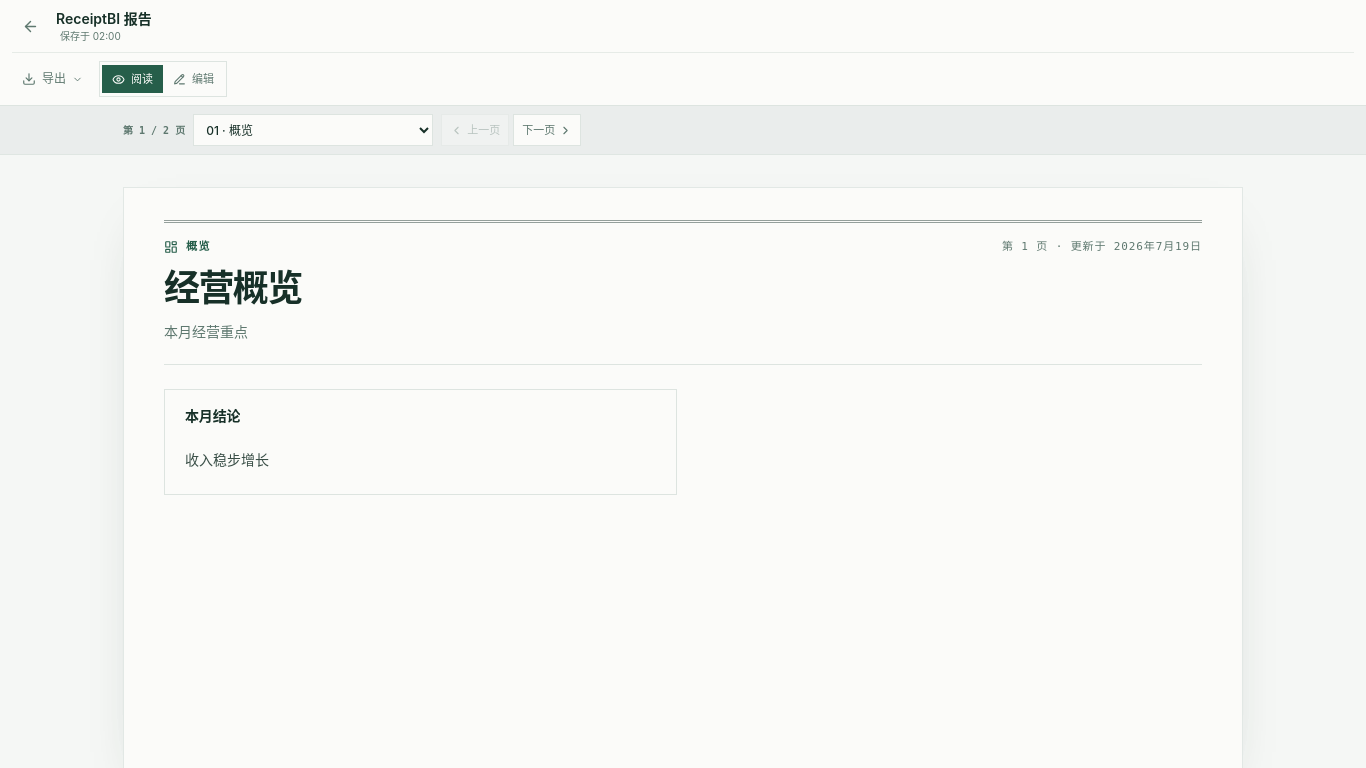
Scenario: ReportWorkspace › keeps the same page navigator in edit mode and exposes page creation
Check: the text "收入稳步增长" is shown, box [185,450,269,468]
Click the button with aria-label "编辑报告". click: (194, 79)
box: [163,65,224,93]
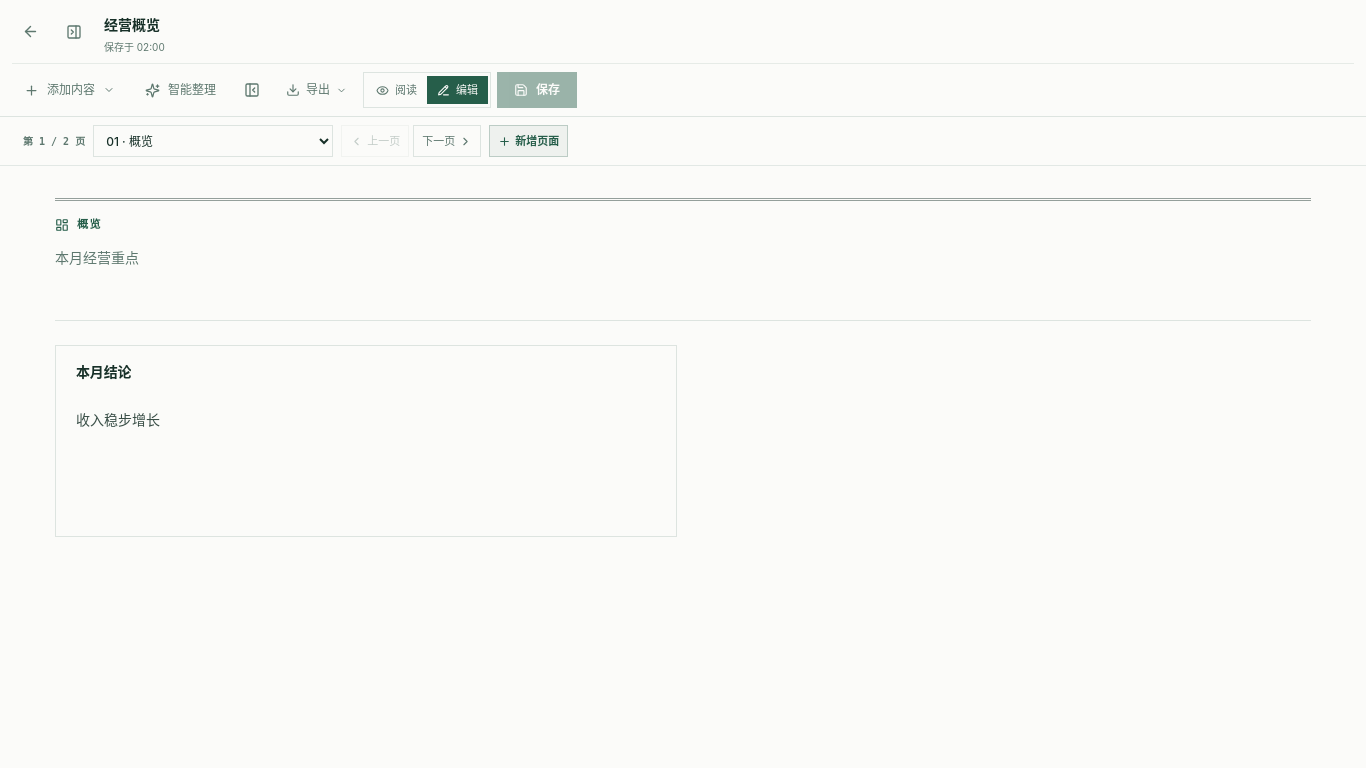
Select "02 · 经营明细" in the dropdown named "选择报告页面". click: (213, 141)
box: [93,125,333,157]
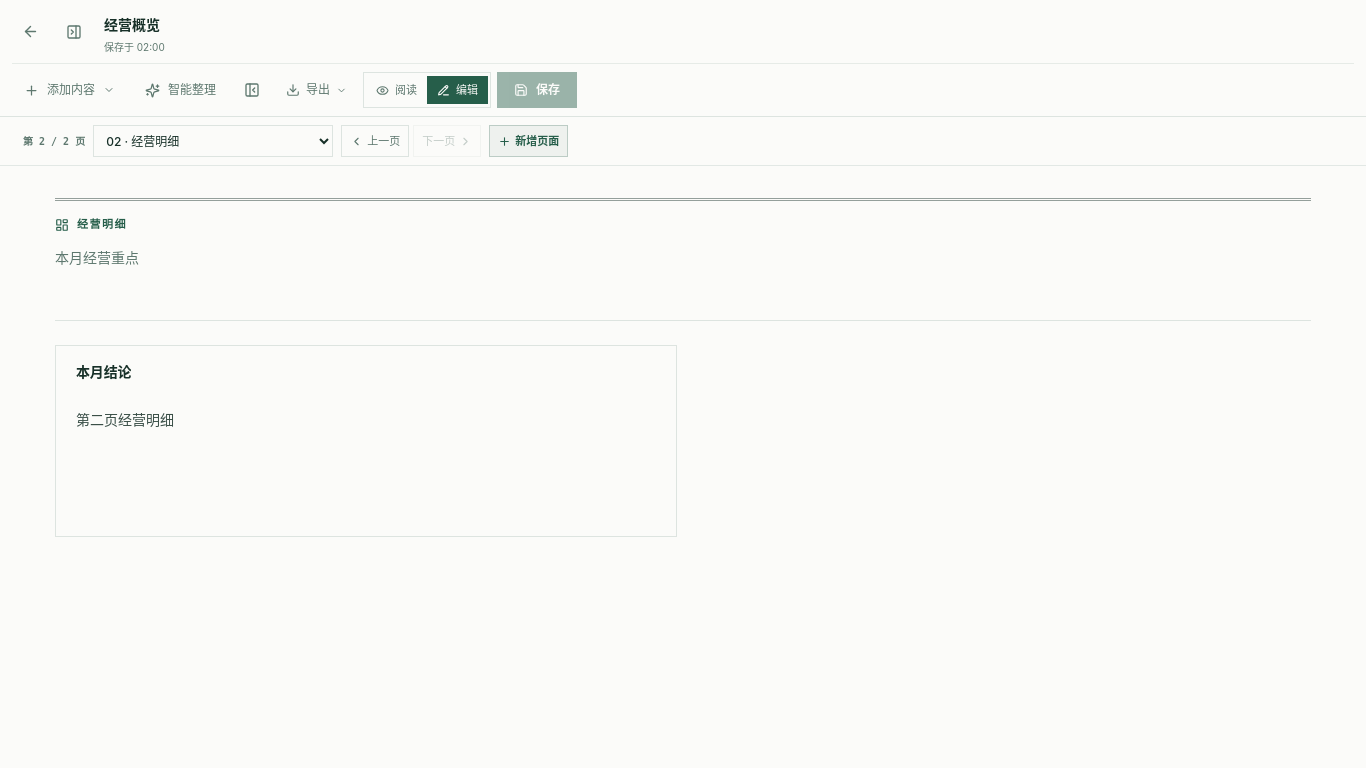
Check: the text "第二页经营明细" is shown, box [76,410,174,428]
Click the button "新增页面". click: (529, 141)
box: [489,125,568,157]
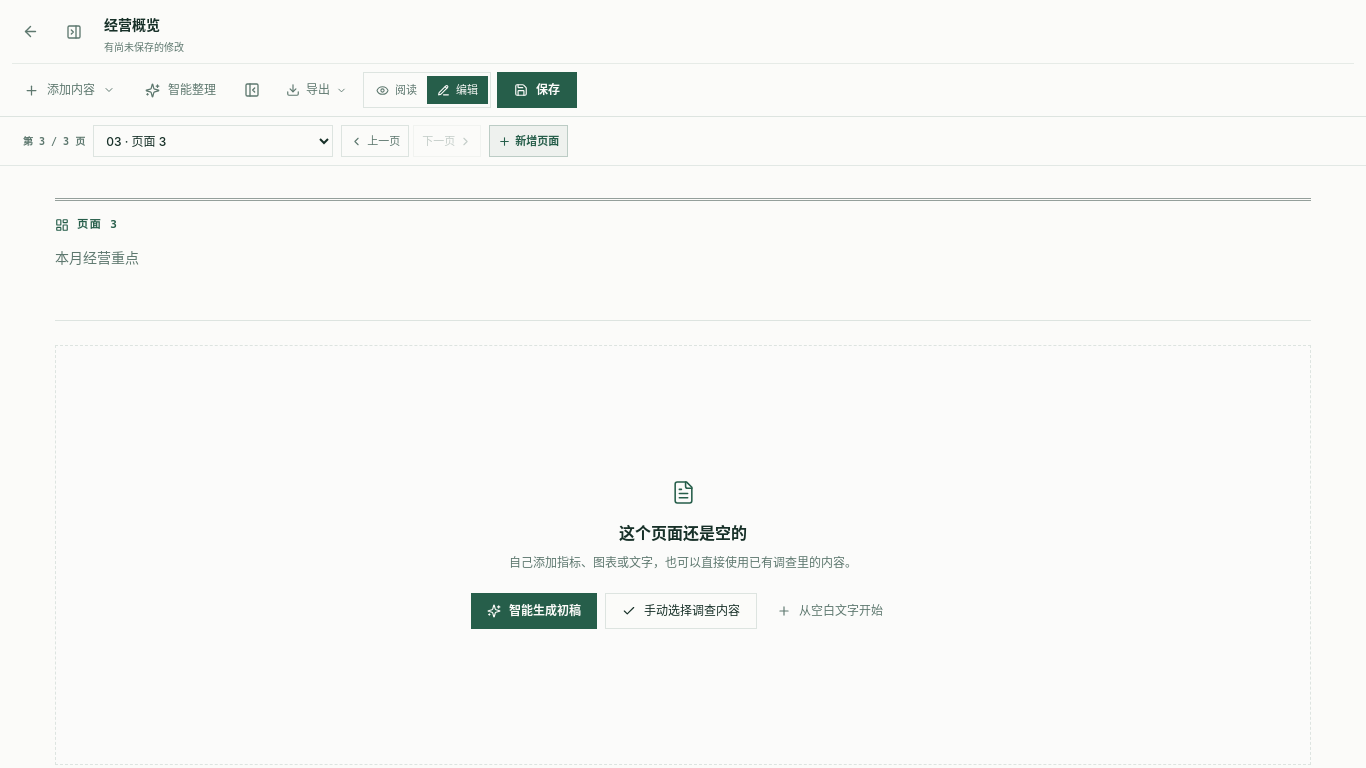
Check: the text "第 3 / 3 页" is shown, box [23,134,85,148]
Check: the heading "这个页面还是空的" is shown, box [619,521,747,545]
